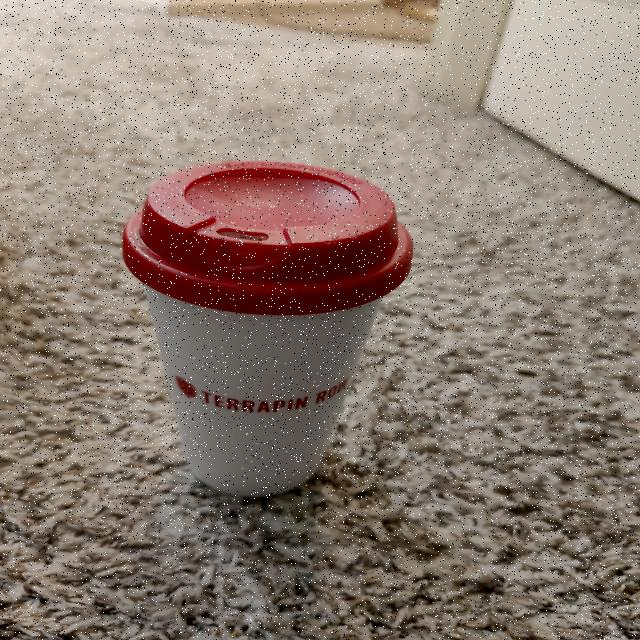mug: (120, 158, 398, 482)
